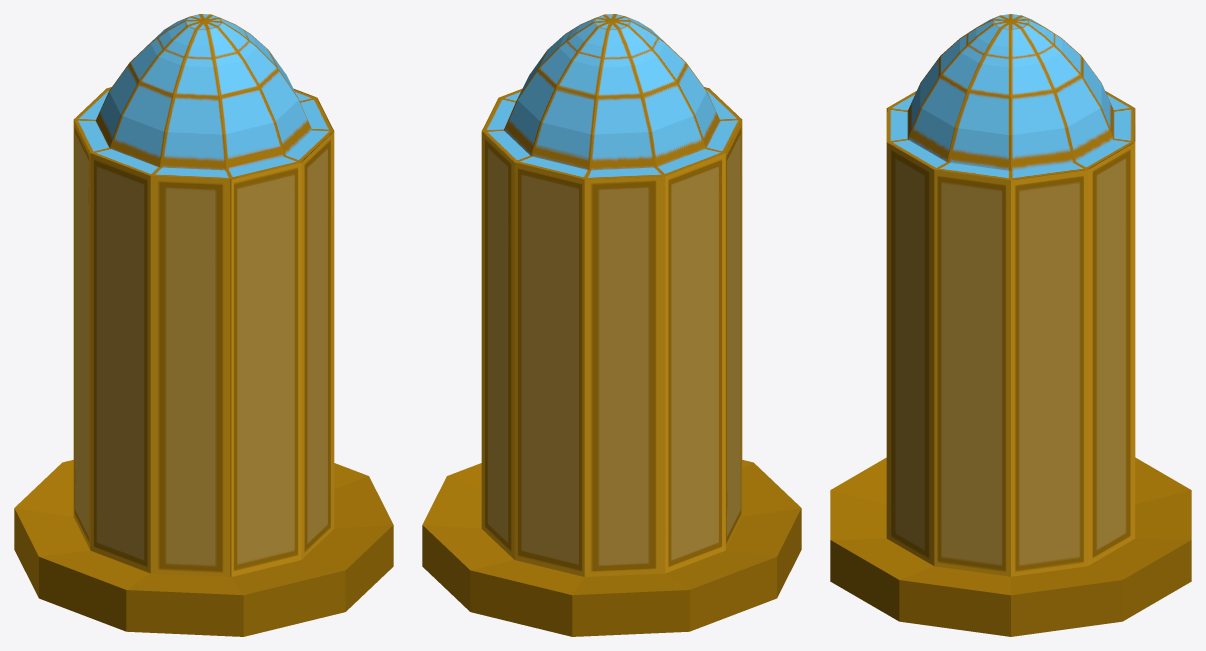
File: building set 2_18.fbx
The picture shows the model from 3 angles, left to right: view 1: azimuth 30°, elevation 25°; view 2: azimuth 150°, elevation 25°; view 3: azimuth 270°, elevation 25°; orthographic projection.
Visible parts, largest first — view 1: pCylinder12; view 2: pCylinder12; view 3: pCylinder12.
Boxes of the visible parts, x1,y1,x2,y2 form: pCylinder12: (14,14,393,636); pCylinder12: (422,14,801,636); pCylinder12: (830,14,1191,636).
Size of the model in its own units: 4.92 by 7.64 by 4.67.
